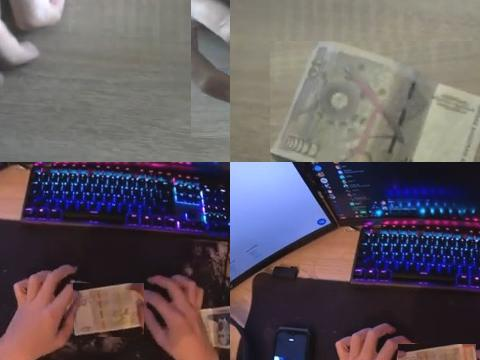10leva: (270, 41, 480, 162)
50leva: (73, 283, 144, 337), (398, 344, 476, 360)
